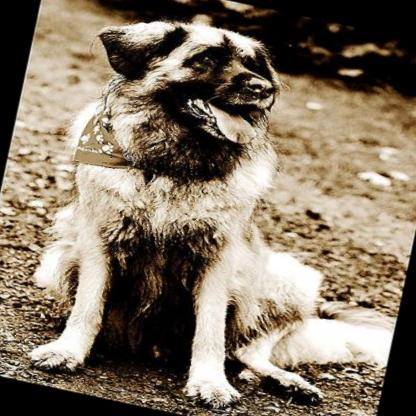Leonberg: (3, 0, 416, 416)
